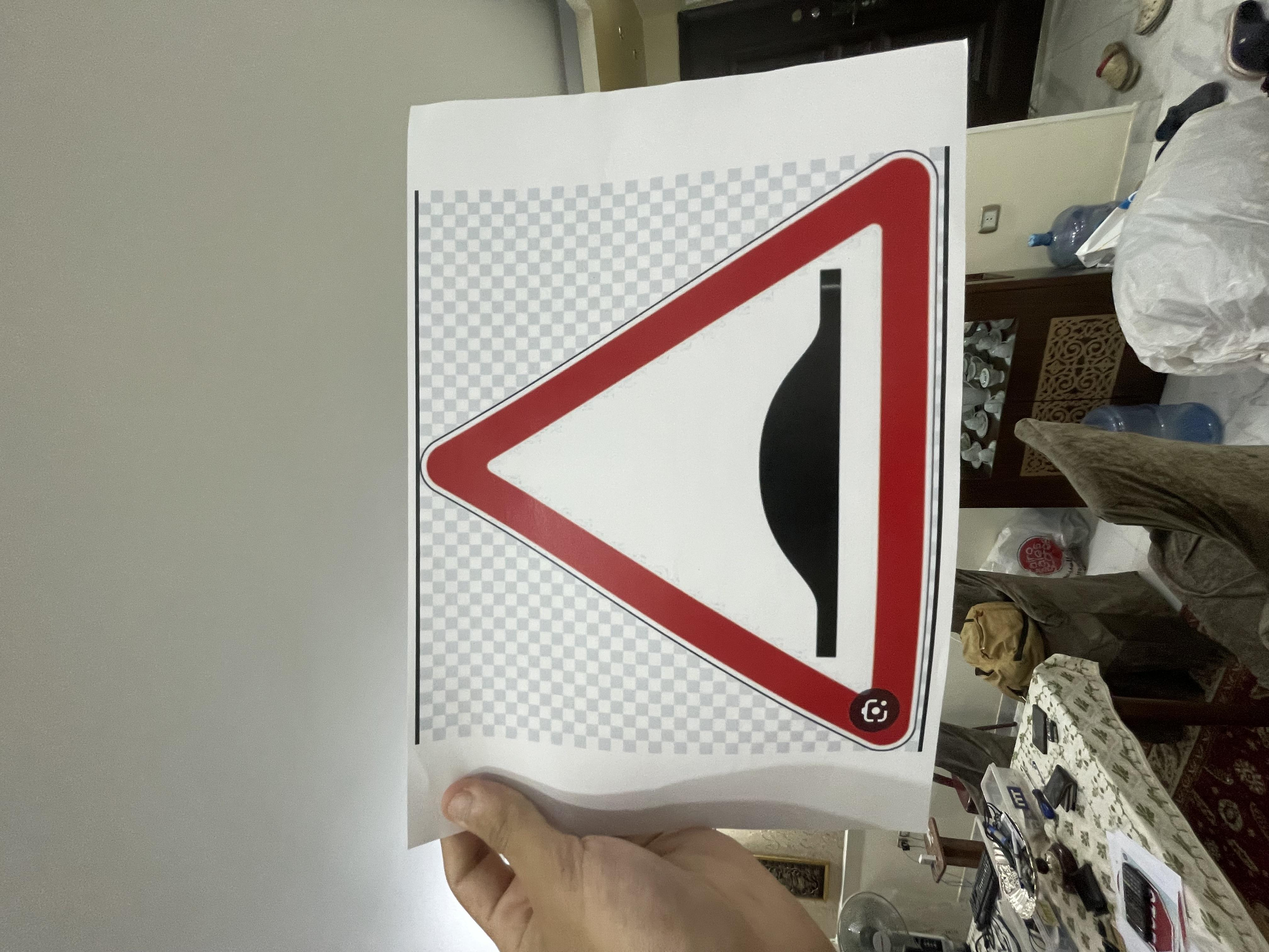Hump: (264, 310, 1088, 691)
